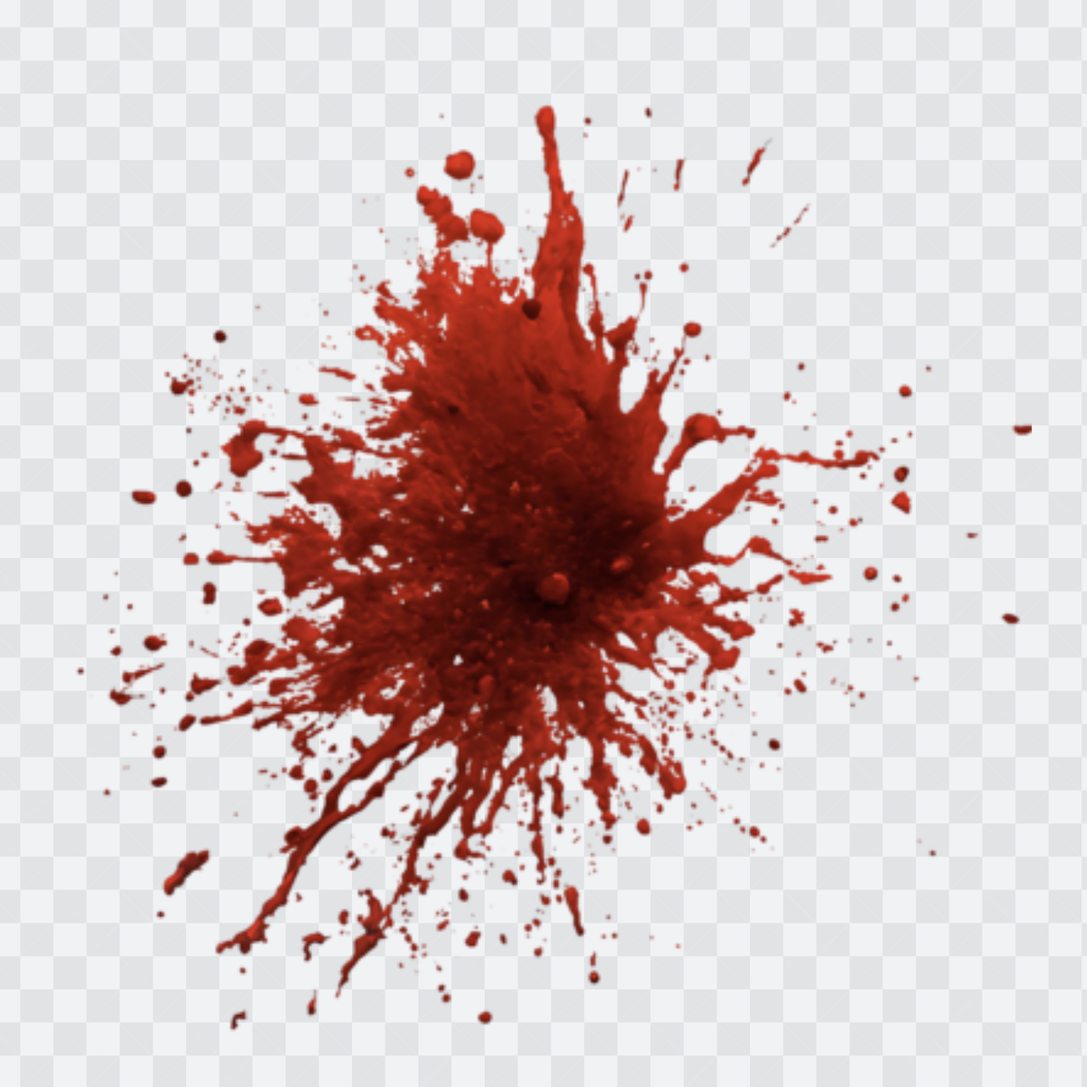blood_2.png: (108, 93, 948, 992)
